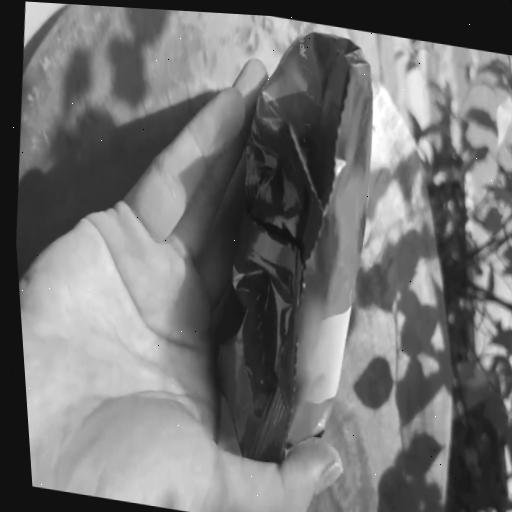cafe_xay: (219, 32, 372, 462)
